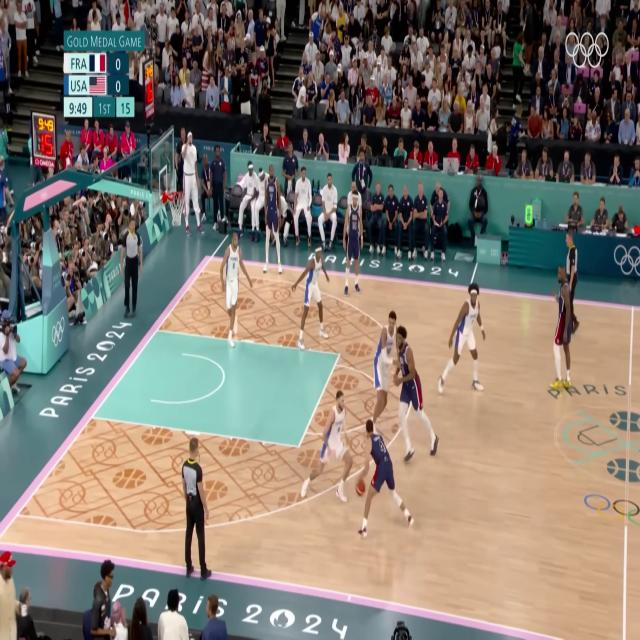ball-handler: (355, 419, 415, 537)
player: (298, 384, 354, 507), (392, 322, 439, 465), (437, 280, 488, 400), (362, 308, 399, 431), (289, 247, 334, 346), (218, 232, 253, 347), (546, 257, 572, 392), (262, 164, 283, 275), (343, 190, 364, 298)
